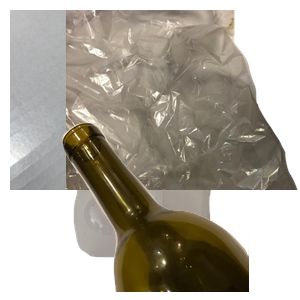cardboard: (10, 10, 250, 190)
glass: (60, 120, 300, 300)
plastic: (71, 169, 275, 300)
trash: (66, 10, 300, 190)
